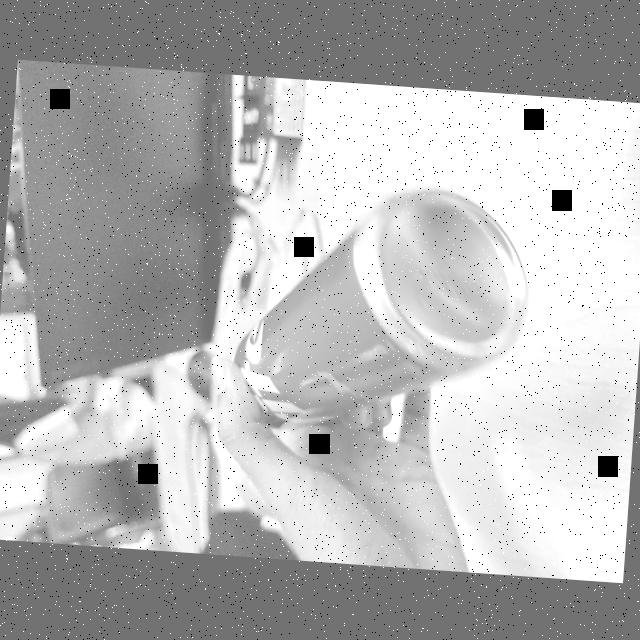can: (204, 168, 548, 452)
